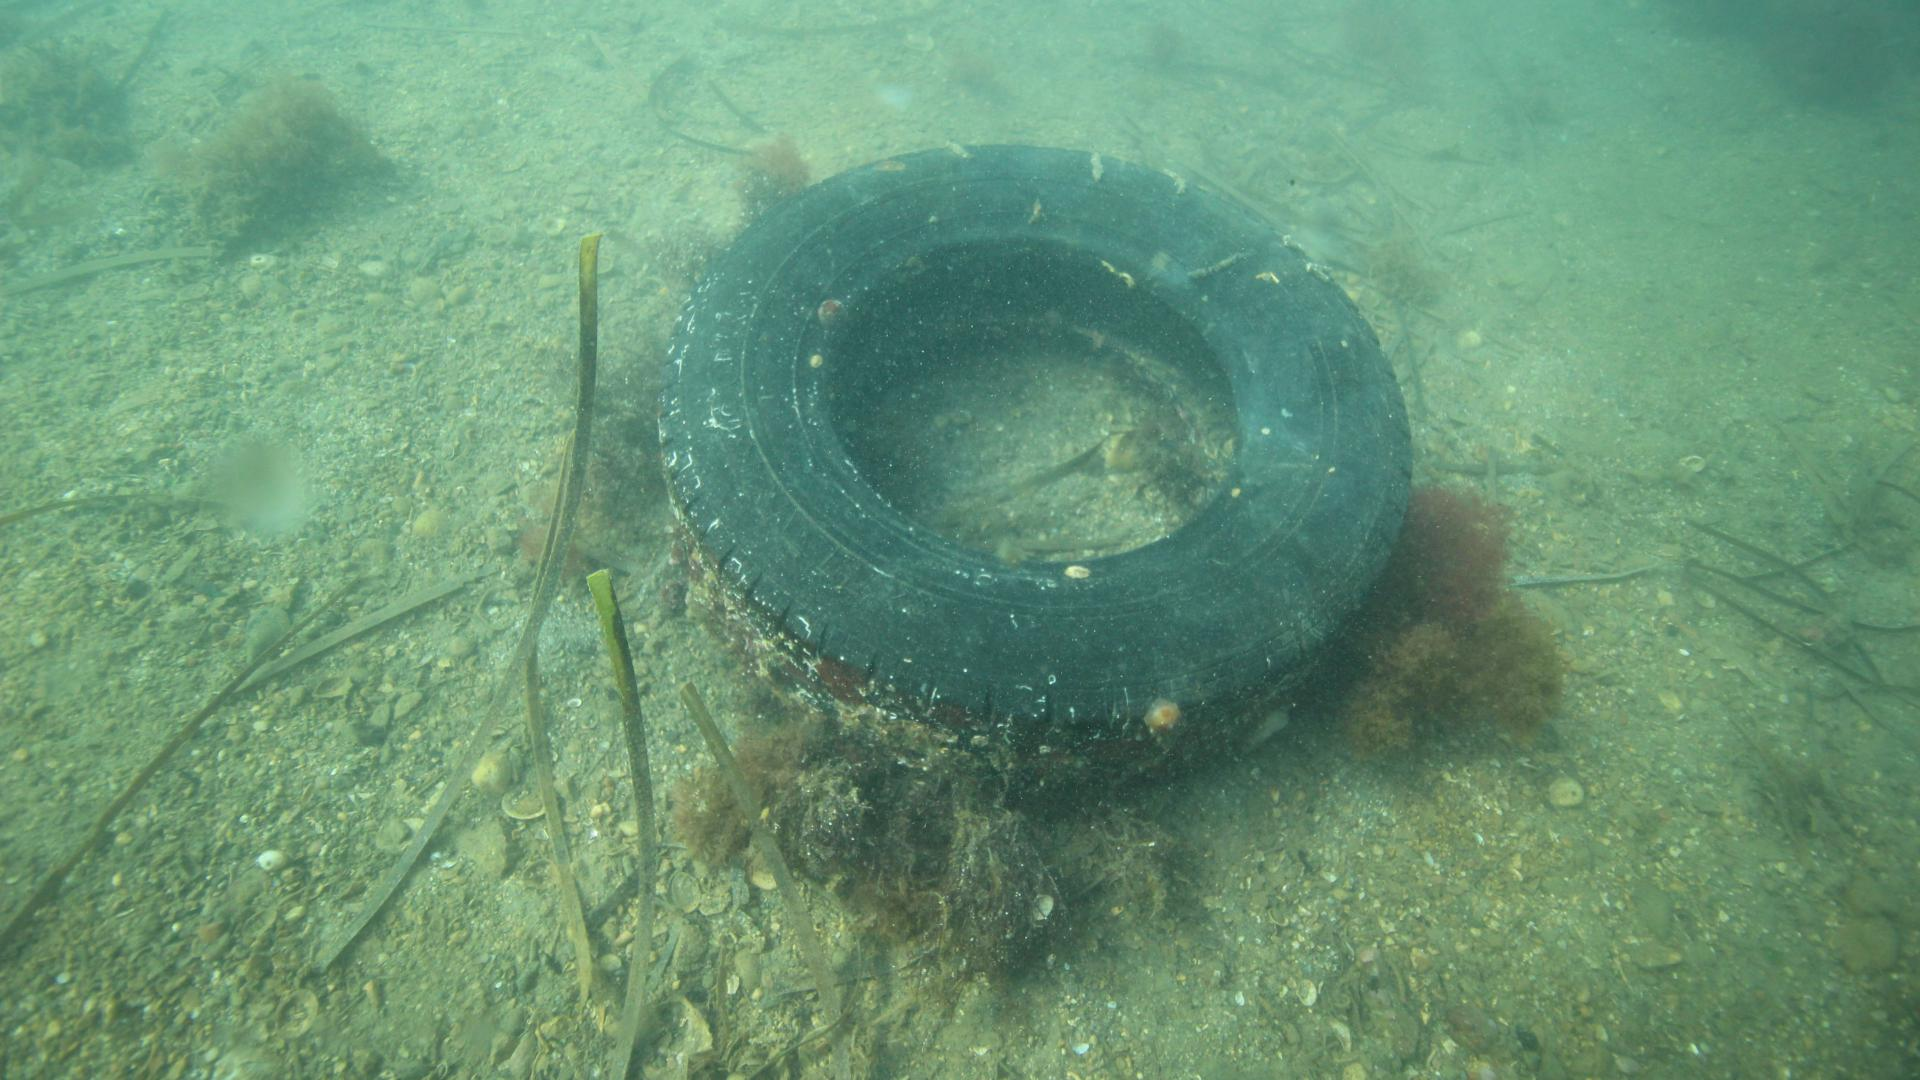tire: (653, 142, 1414, 789)
